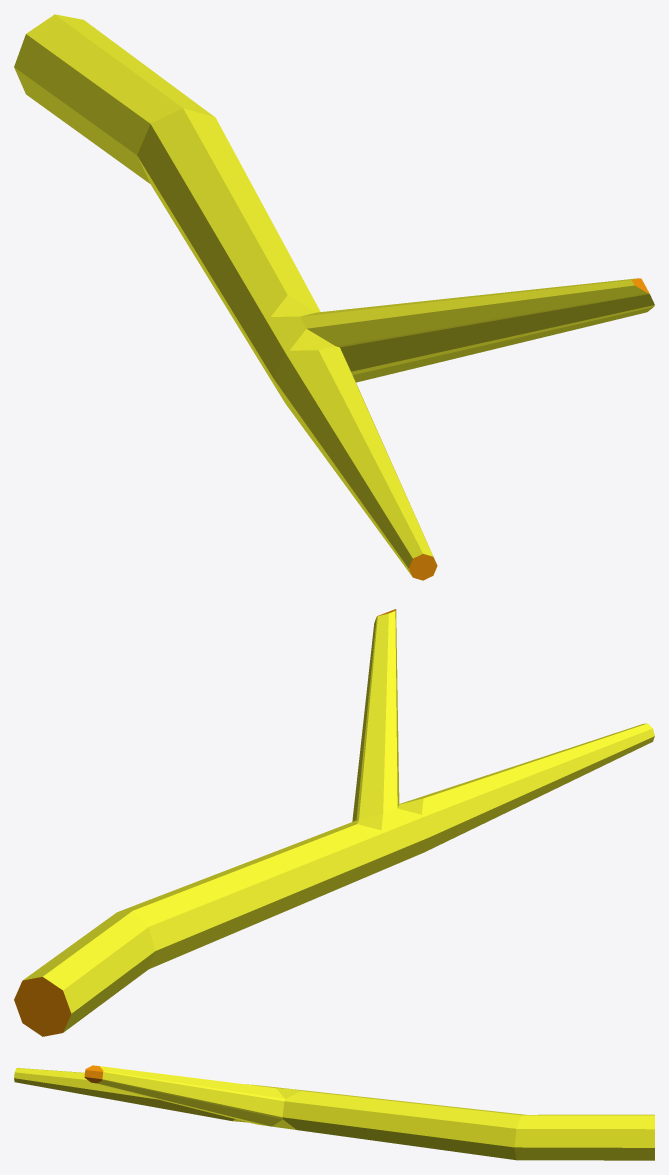
The model's file is Stick_29.fbx.
3 views of the same model, one above another, from view 1: azimuth 30°, elevation 25°; view 2: azimuth 150°, elevation 25°; view 3: azimuth 270°, elevation 25° (orthographic). The views are drawn at different scales.
Visible parts, largest first — view 1: Circle.307; view 2: Circle.307; view 3: Circle.307.
Part boxes in pixels (x1,y1,x2,y2): Circle.307: (14,14,654,580); Circle.307: (14,609,654,1036); Circle.307: (14,1065,654,1160).
Size of the model in its own units: 13.28 by 8 by 44.51.
